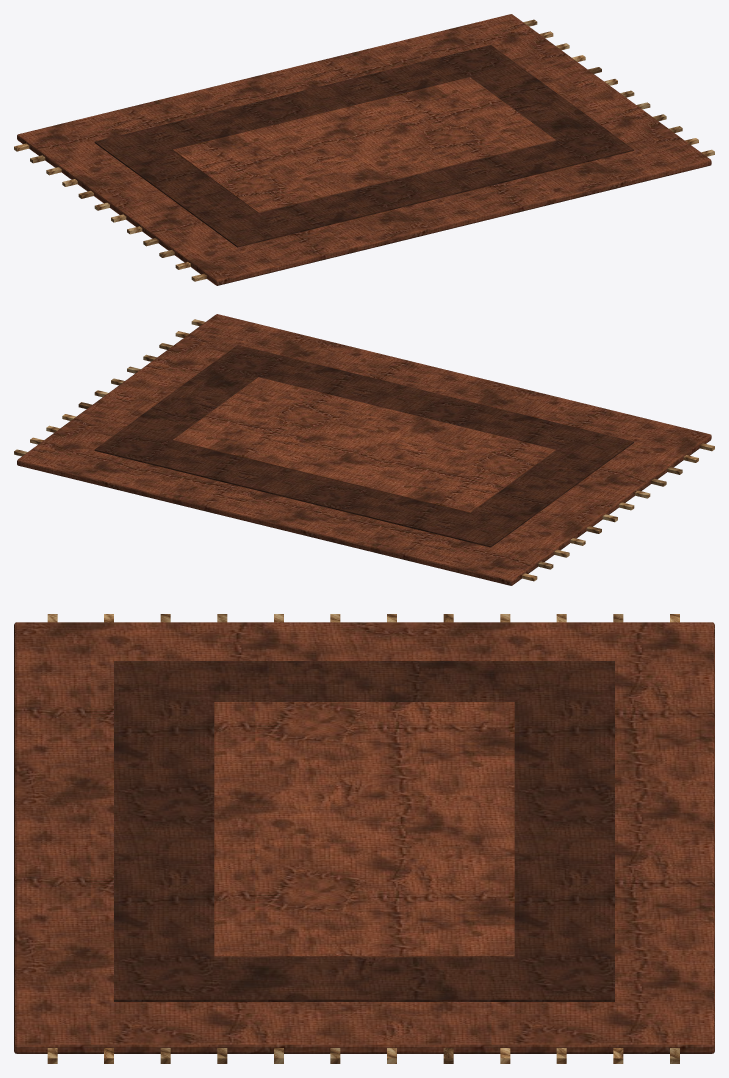
Rendered from rug__plank_mushroom.glb.
The picture shows the model from 3 angles, top to bottom: view 1: azimuth 30°, elevation 25°; view 2: azimuth 150°, elevation 25°; view 3: azimuth 270°, elevation 25°; orthographic projection. The views are drawn at different scales.
Parts seen in each view (by area): view 1: model; view 2: model; view 3: model.
Boxes of the visible parts, <box> form: model: <box>14,14,714,285</box>; model: <box>14,314,714,585</box>; model: <box>14,614,714,1063</box>.
Bounding box in the file's own units: 2.1 × 0.032 × 1.4.
6 materials, 6 textured.
